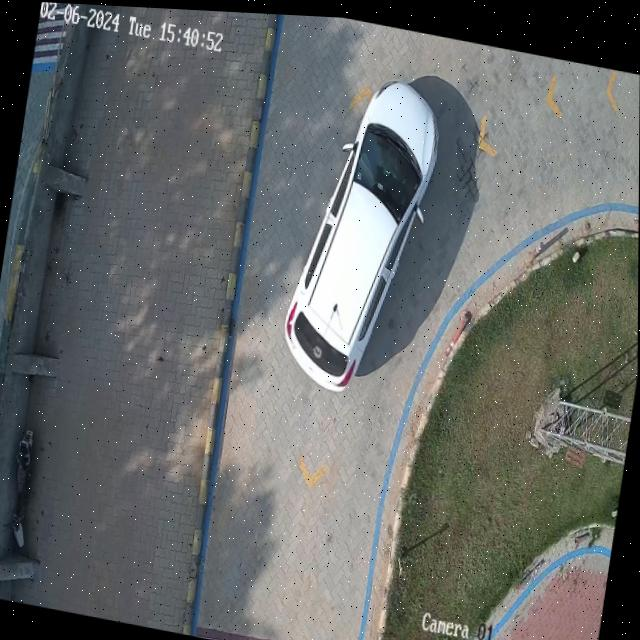car: (285, 78, 440, 388)
